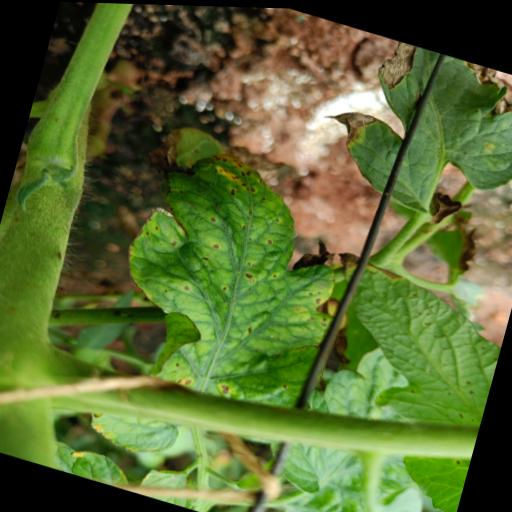Early Blight: (90, 125, 364, 421)
